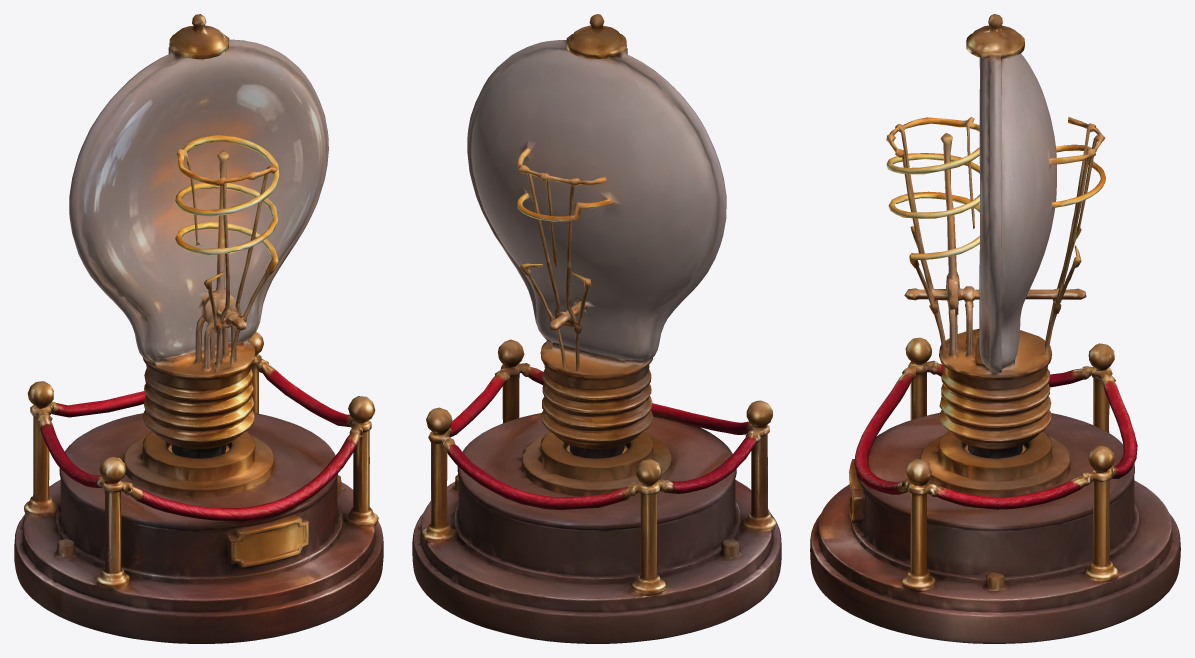
Rendered from exhibit-bulb.glb.
3 renders of one model, left to right at view 1: azimuth 30°, elevation 25°; view 2: azimuth 150°, elevation 25°; view 3: azimuth 270°, elevation 25°, orthographic.
Visible parts, largest first — view 1: tripo_node_46f621bd-94ea-4da3-973d-5baaf4037d7e; view 2: tripo_node_46f621bd-94ea-4da3-973d-5baaf4037d7e; view 3: tripo_node_46f621bd-94ea-4da3-973d-5baaf4037d7e.
Boxes of the visible parts, x1,y1,x2,y2 form: tripo_node_46f621bd-94ea-4da3-973d-5baaf4037d7e: (14,14,383,643); tripo_node_46f621bd-94ea-4da3-973d-5baaf4037d7e: (412,14,781,643); tripo_node_46f621bd-94ea-4da3-973d-5baaf4037d7e: (810,14,1180,643).
Bounding box in the file's own units: 0.6076 × 1 × 0.6086.
1 material, 1 textured.
